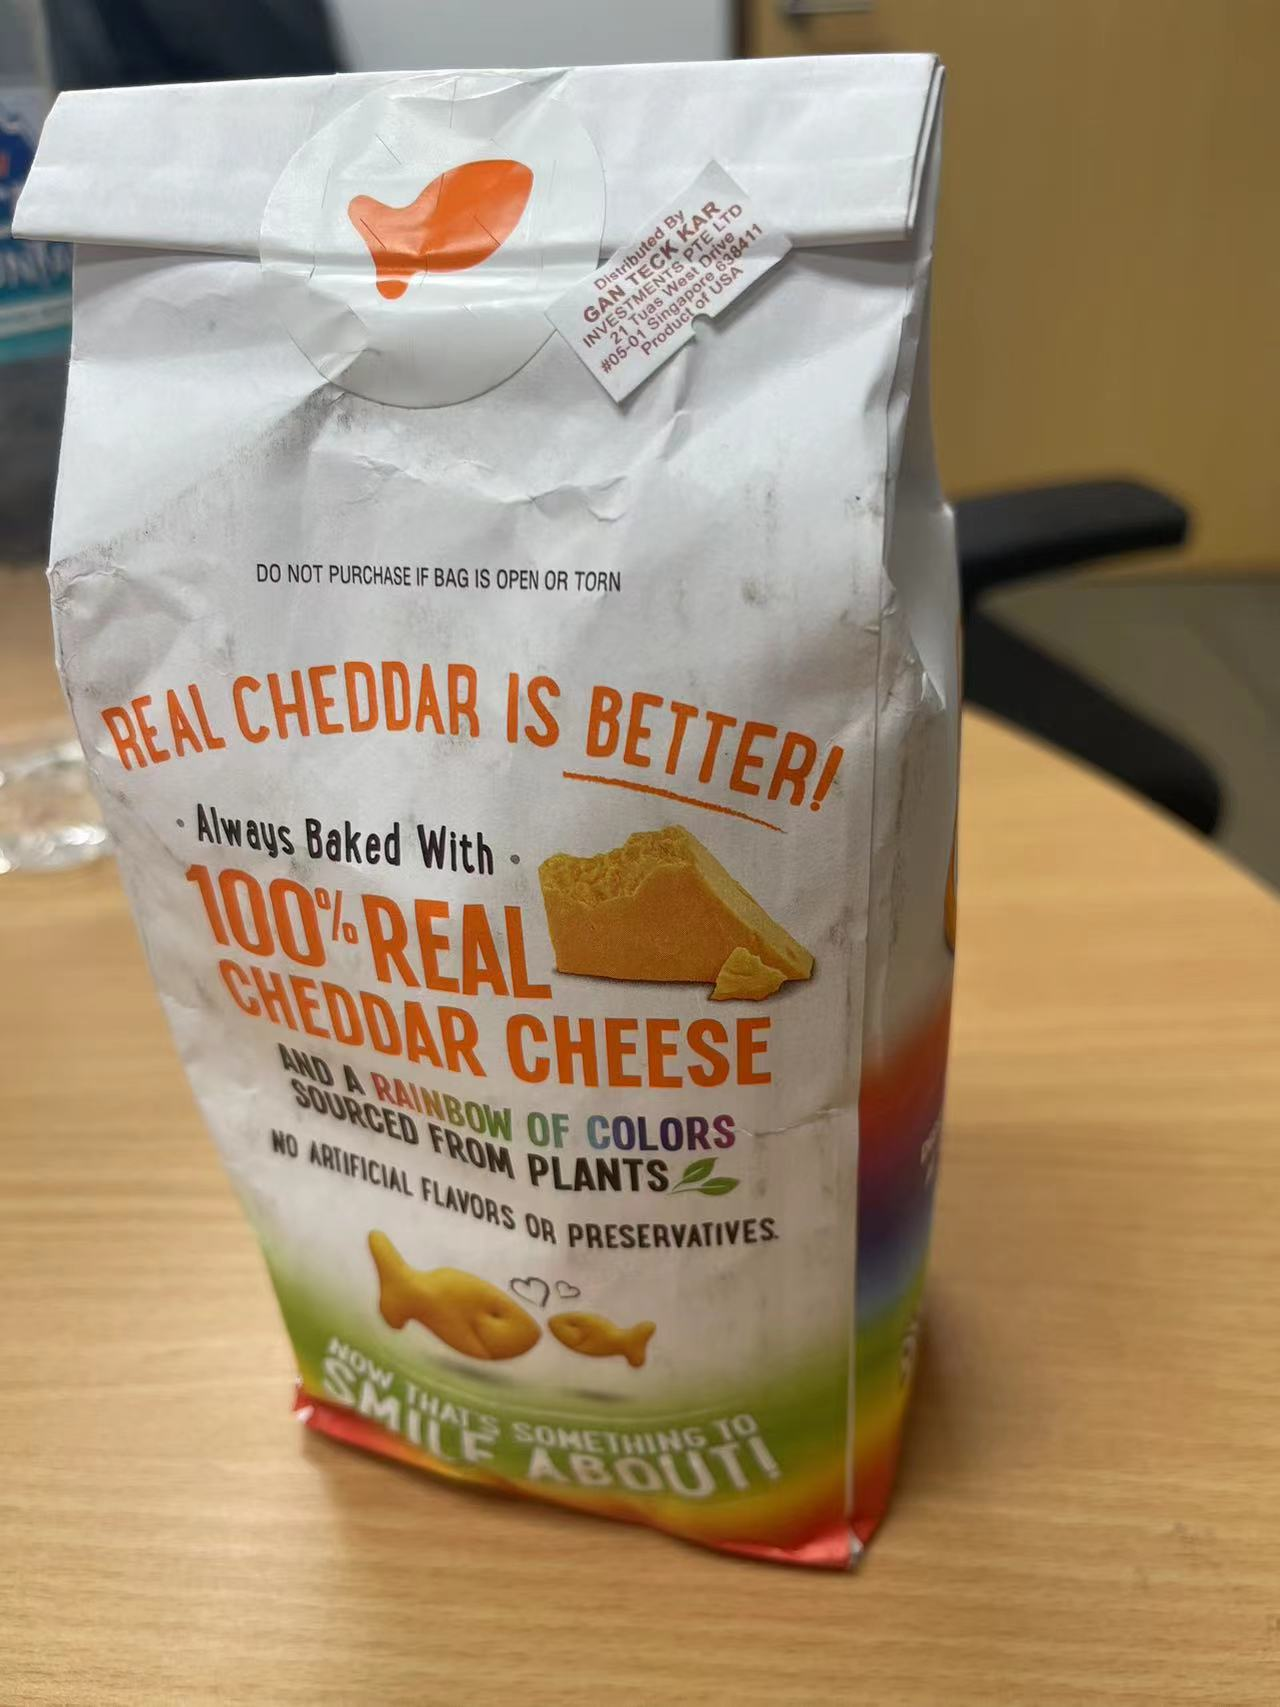Crackers_100-199g_NonHalal_NonHealthy: (34, 77, 969, 1575)
